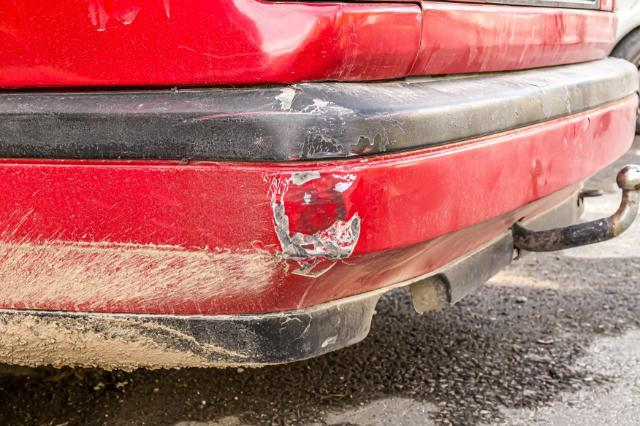Bumper: (0, 76, 411, 365)
